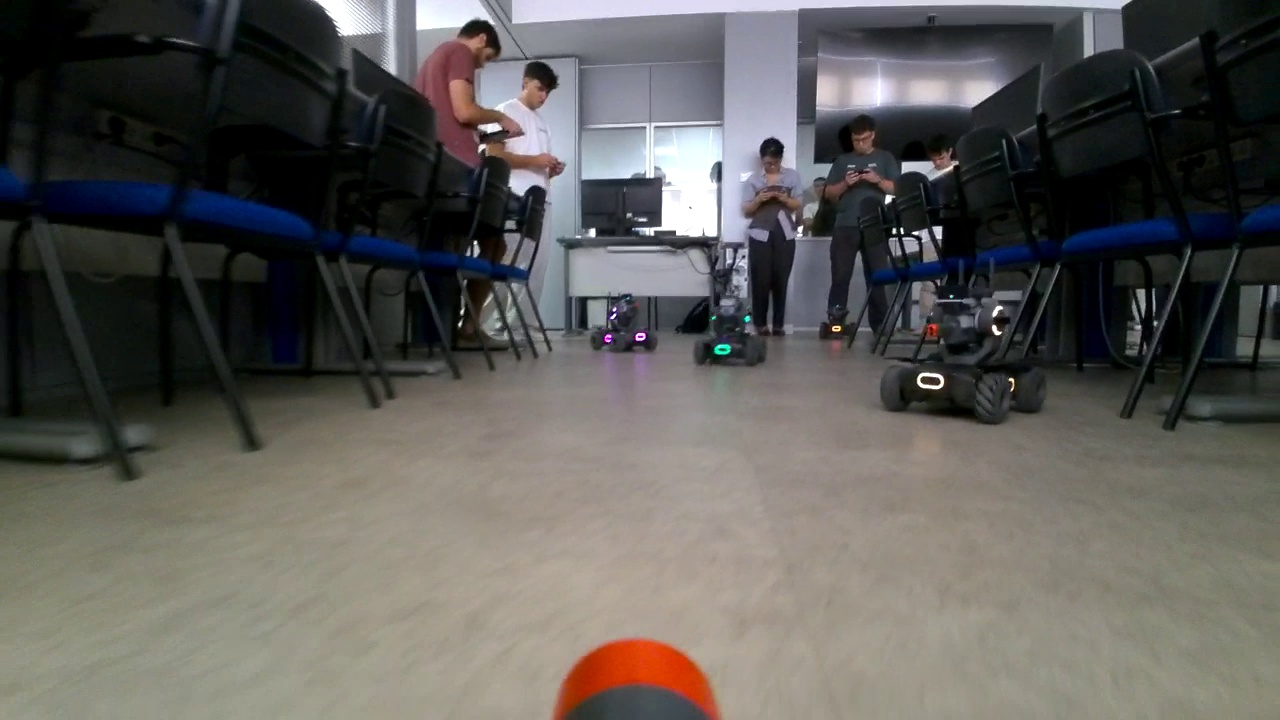robot: (877, 262, 1050, 424), (691, 286, 769, 371), (587, 292, 658, 357), (817, 303, 856, 343)
